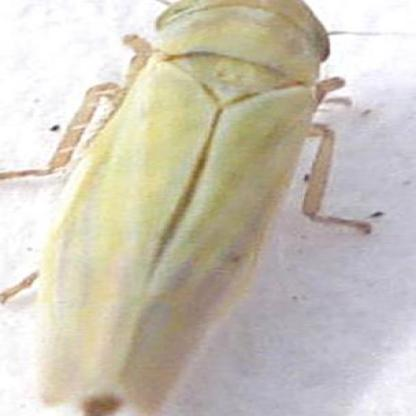green-leafhopper: (44, 1, 325, 406)
